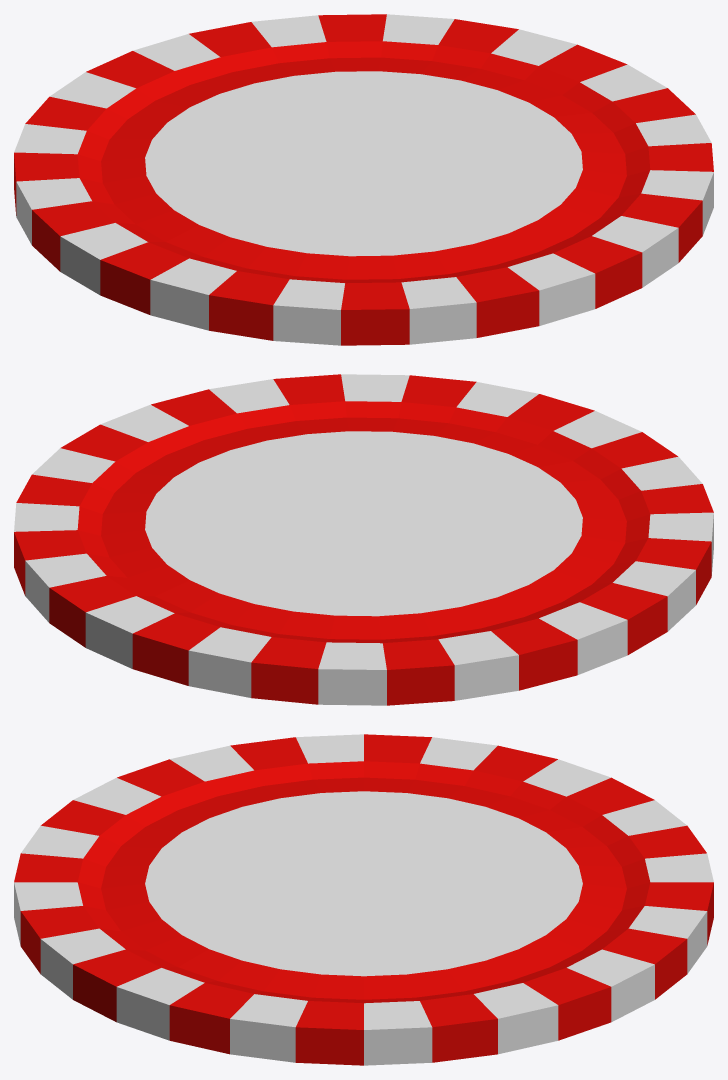
File: RedCoin.fbx
3 views of the same model, one above another, from view 1: azimuth 30°, elevation 25°; view 2: azimuth 150°, elevation 25°; view 3: azimuth 270°, elevation 25° (orthographic).
Visible parts, largest first — view 1: Cylinder; view 2: Cylinder; view 3: Cylinder.
Boxes of the visible parts, <box> form: Cylinder: <box>14,14,713,345</box>; Cylinder: <box>14,374,713,705</box>; Cylinder: <box>14,734,713,1065</box>.
Bounding box in the file's own units: 100 × 5.6 × 100.
